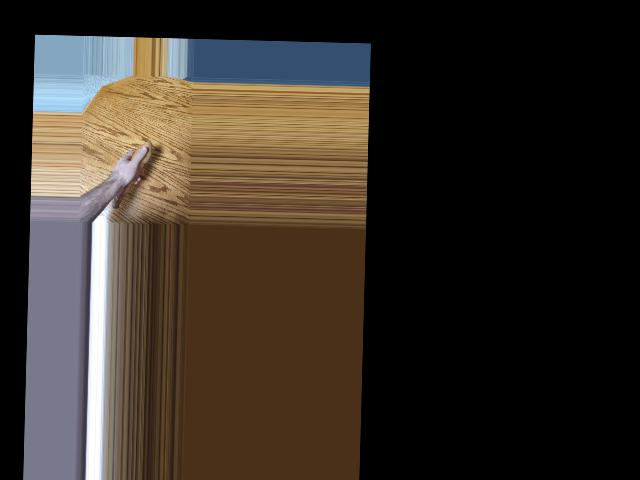sweet_potato: (110, 139, 153, 221)
